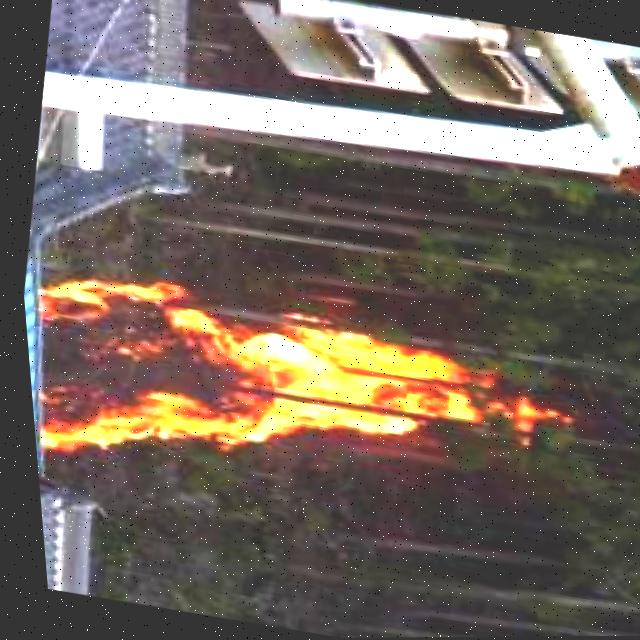Fire: (18, 266, 484, 509)
